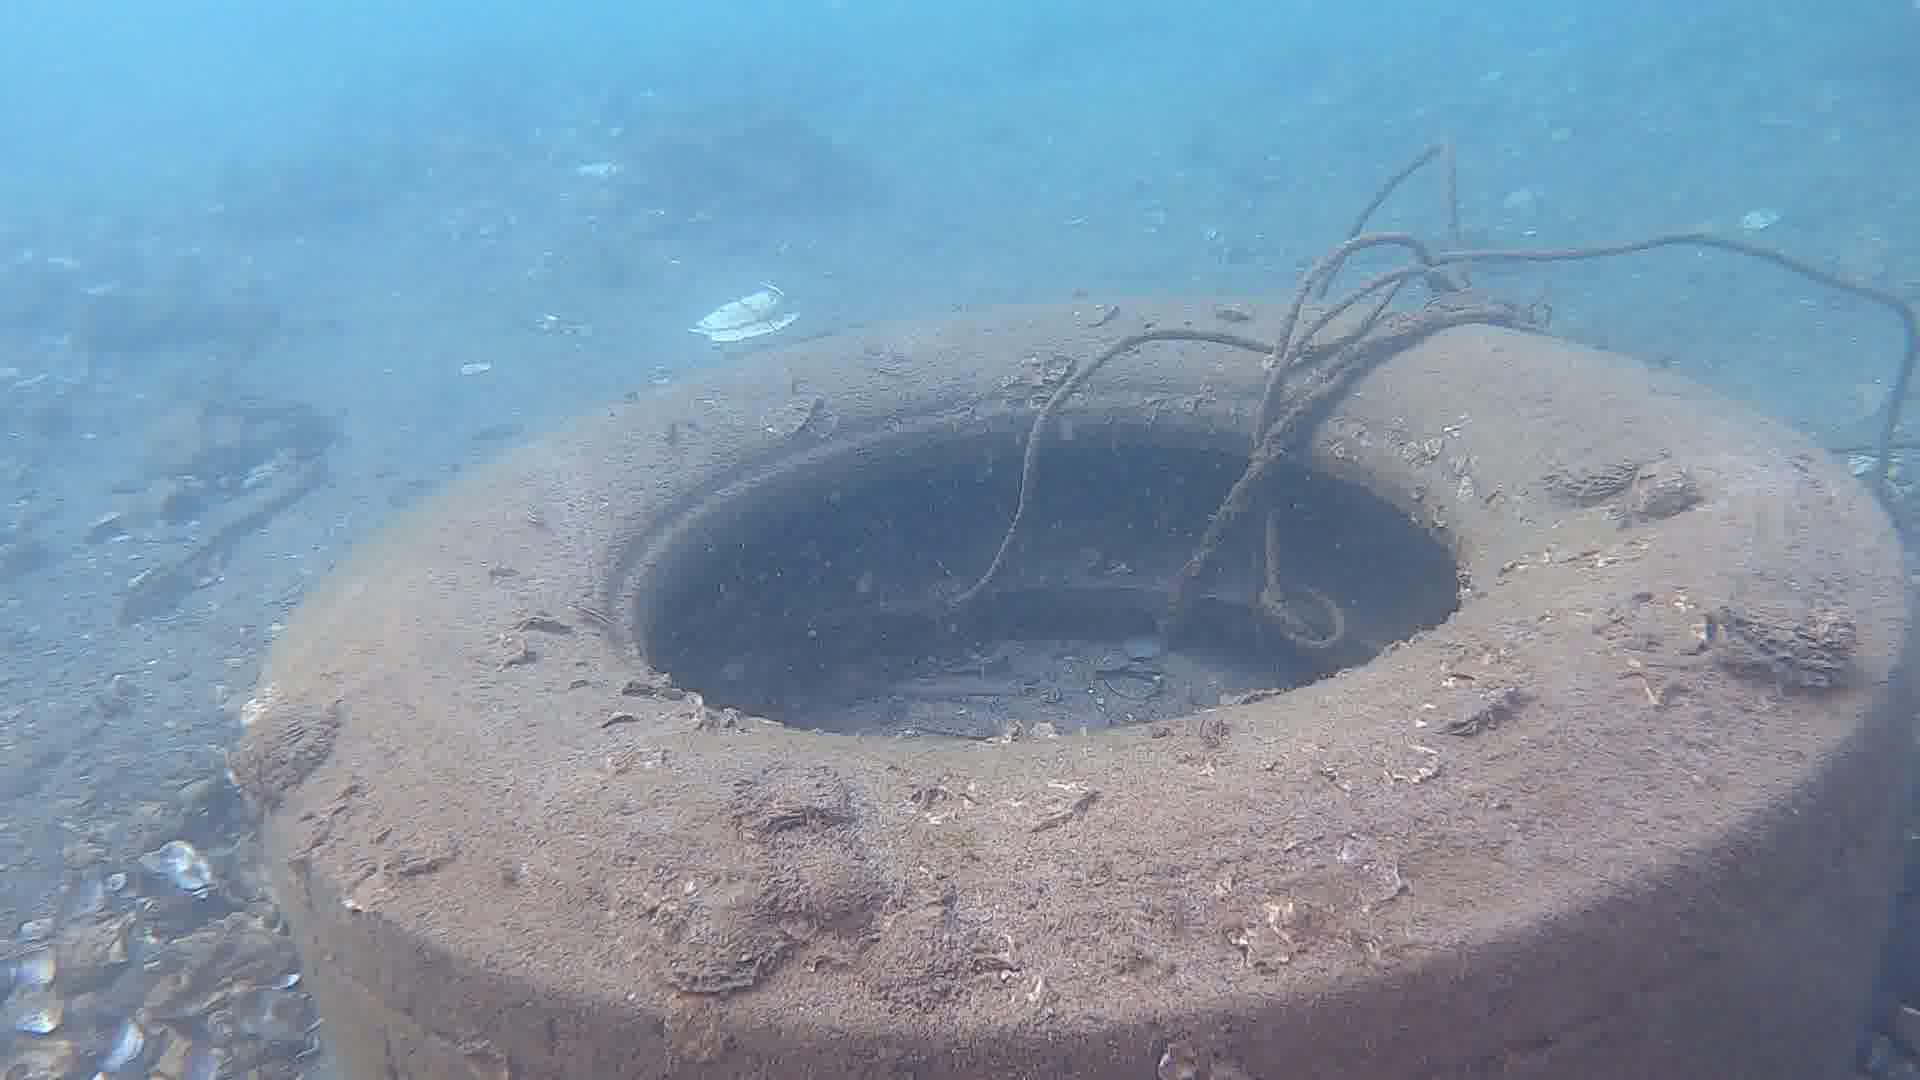bundle of ropes: (944, 136, 1920, 649)
tire: (245, 295, 1920, 1080)
